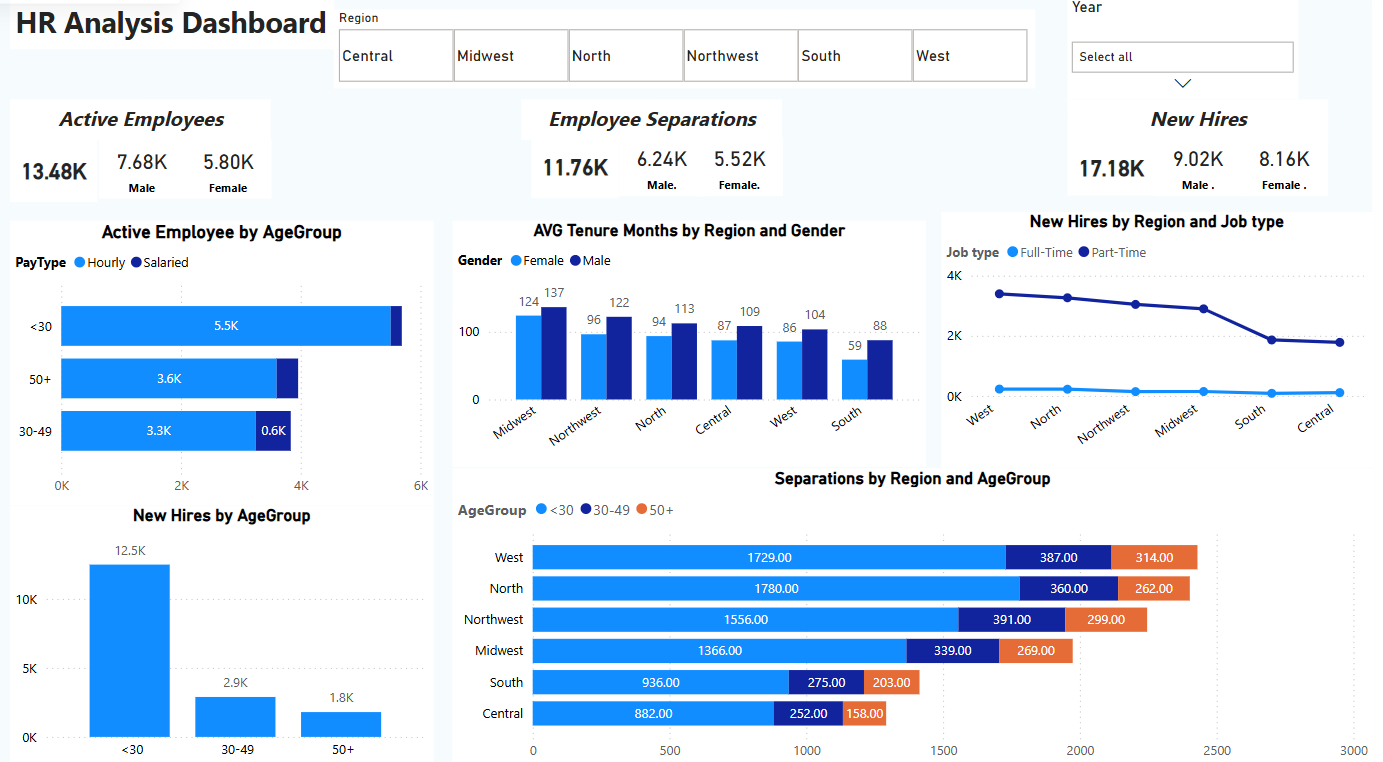

What the dashboard file says about the page in this screenshot:
{"tool":"powerbi","page":{"name":"Page 1","canvas":[1280,720],"ordinal":0},"visuals":[{"type":"textbox","box":[9.8,0,302,48.9],"z":0},{"type":"advancedSlicerVisual","fields":{"Values":["BU.Region"]},"box":[311.8,12.2,654.2,73.4],"z":1000},{"type":"advancedSlicerVisual","fields":{"Values":["Date.Year"]},"box":[995.4,0,215.2,95.4],"z":2000},{"type":"textbox","box":[9.8,95.4,243.3,37.9],"z":3000},{"type":"card","fields":{"Values":["Measure Table.Actives"]},"box":[9.8,133.3,81.9,58.7],"z":4000},{"type":"card","fields":{"Values":["Measure Table.Male Actives"]},"box":[91.7,133.3,80.7,55],"z":5000},{"type":"card","fields":{"Values":["Measure Table.Female Emp Actives"]},"box":[172.4,133.3,80.7,55],"z":6000},{"type":"textbox","box":[486.7,95.4,243.3,37.9],"z":7000},{"type":"textbox","box":[995.4,95.4,243.3,39.1],"z":8000},{"type":"card","fields":{"Values":["Measure Table.Separations"]},"box":[495.2,129.6,81.9,58.7],"z":9000},{"type":"card","fields":{"Values":["Measure Table.New Hires"]},"box":[995.4,134.5,81.9,51.4],"z":10000},{"type":"card","fields":{"Values":["Measure Table.Male Separations"]},"box":[577.2,130.8,80.7,55],"z":11000},{"type":"card","fields":{"Values":["Measure Table.Male New Hires"]},"box":[1077.3,130.8,80.7,55],"z":12000},{"type":"card","fields":{"Values":["Measure Table.Female."]},"box":[649.3,130.8,80.7,55],"z":13000},{"type":"card","fields":{"Values":["Measure Table.Female New Hires"]},"box":[1158,130.8,80.7,55],"z":14000},{"type":"barChart","title":"Active Employee by AgeGroup","fields":{"Category":["AgeGroup.AgeGroup"],"Y":["Measure Table.Actives"],"Series":["PayType.PayType"]},"box":[9.8,209.1,395,265.4],"z":14001},{"type":"clusteredColumnChart","fields":{"Category":["BU.Region"],"Y":["Measure Table.AVG Tenure Months"],"Series":["Gender.Gender"]},"box":[421.9,209.1,441.4,229.9],"z":14002},{"type":"lineChart","fields":{"Category":["BU.Region"],"Series":["FP.Job type"],"Y":["Measure Table.New Hires"]},"box":[878,200.5,402.3,238.5],"z":14003},{"type":"clusteredColumnChart","fields":{"Category":["AgeGroup.AgeGroup"],"Y":["Measure Table.New Hires"]},"box":[9.8,474.5,395,245.8],"z":14004},{"type":"barChart","fields":{"Y":["Measure Table.Separations"],"Category":["BU.Region"],"Series":["AgeGroup.AgeGroup"]},"box":[421.9,439,858.4,281.3],"z":14005}]}

Visuals, with their boxes in screenshot pixels (x1, y1, x2, y2), scaled from the page's 1280x720 canvas onto the 1383x762 screenshot:
textbox: 11:0:337:52
advancedSlicerVisual - BU.Region: 337:13:1044:91
advancedSlicerVisual - Date.Year: 1075:0:1308:101
textbox: 11:101:273:141
card - Measure Table.Actives: 11:141:99:203
card - Measure Table.Male Actives: 99:141:186:199
card - Measure Table.Female Emp Actives: 186:141:273:199
textbox: 526:101:789:141
textbox: 1075:101:1338:142
card - Measure Table.Separations: 535:137:624:199
card - Measure Table.New Hires: 1075:142:1164:197
card - Measure Table.Male Separations: 624:138:711:197
card - Measure Table.Male New Hires: 1164:138:1251:197
card - Measure Table.Female.: 702:138:789:197
card - Measure Table.Female New Hires: 1251:138:1338:197
"Active Employee by AgeGroup" barChart: 11:221:437:502
clusteredColumnChart - BU.Region x Measure Table.AVG Tenure Months: 456:221:933:465
lineChart - BU.Region x FP.Job type: 949:212:1382:465
clusteredColumnChart - AgeGroup.AgeGroup x Measure Table.New Hires: 11:502:437:761
barChart - Measure Table.Separations x BU.Region: 456:465:1382:761
